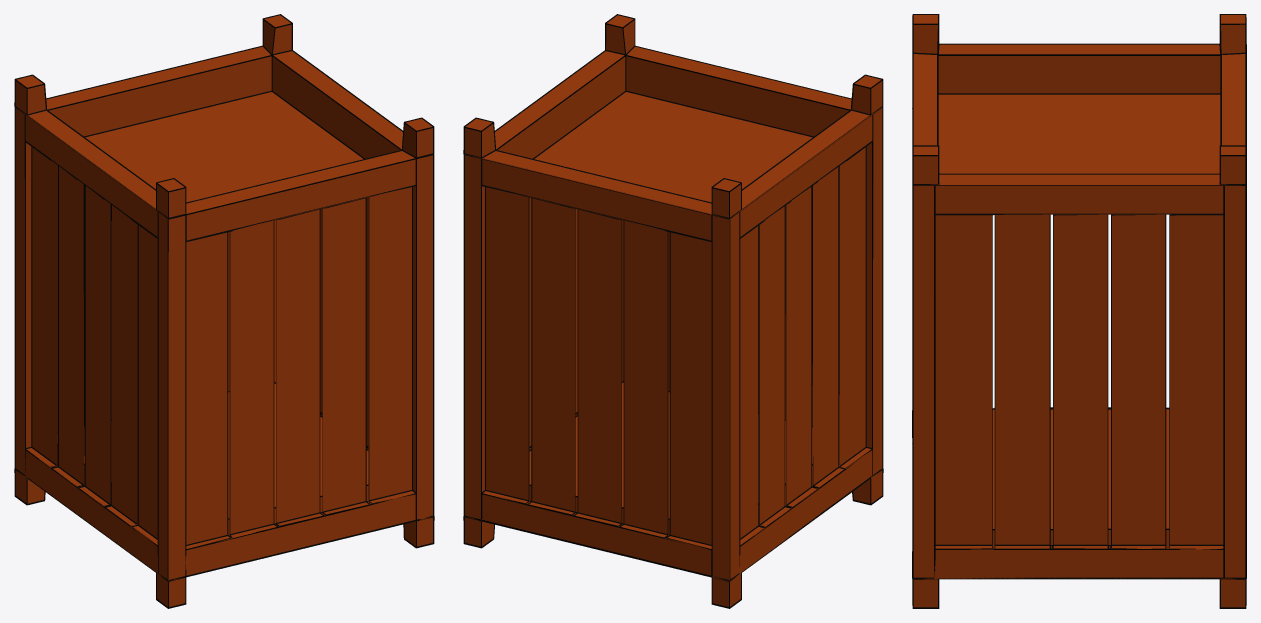
Rendered from FlowerPot.fbx.
3 views of the same model, side by side, from view 1: azimuth 30°, elevation 25°; view 2: azimuth 150°, elevation 25°; view 3: azimuth 270°, elevation 25° (orthographic). The views are drawn at different scales.
Visible parts, largest first — view 1: Cube; view 2: Cube; view 3: Cube.
Boxes of the visible parts, x1,y1,x2,y2 form: Cube: [14, 14, 434, 608]; Cube: [463, 14, 883, 608]; Cube: [912, 14, 1246, 608].
Size of the model in its own units: 201 by 301 by 201.
